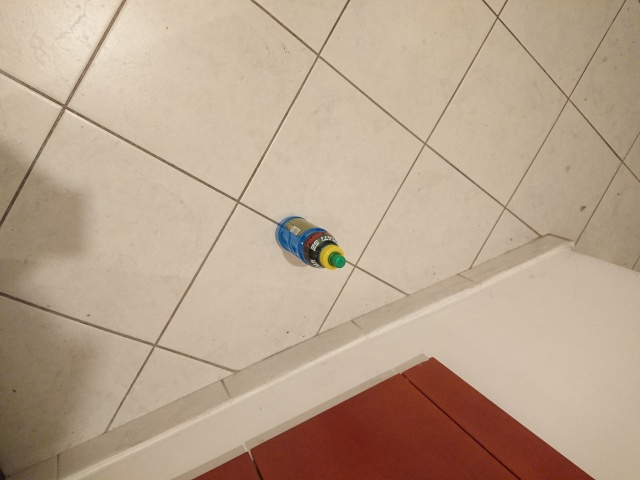Vindi Iso Sport Forest Strawberries 500mL: (273, 214, 347, 271)
